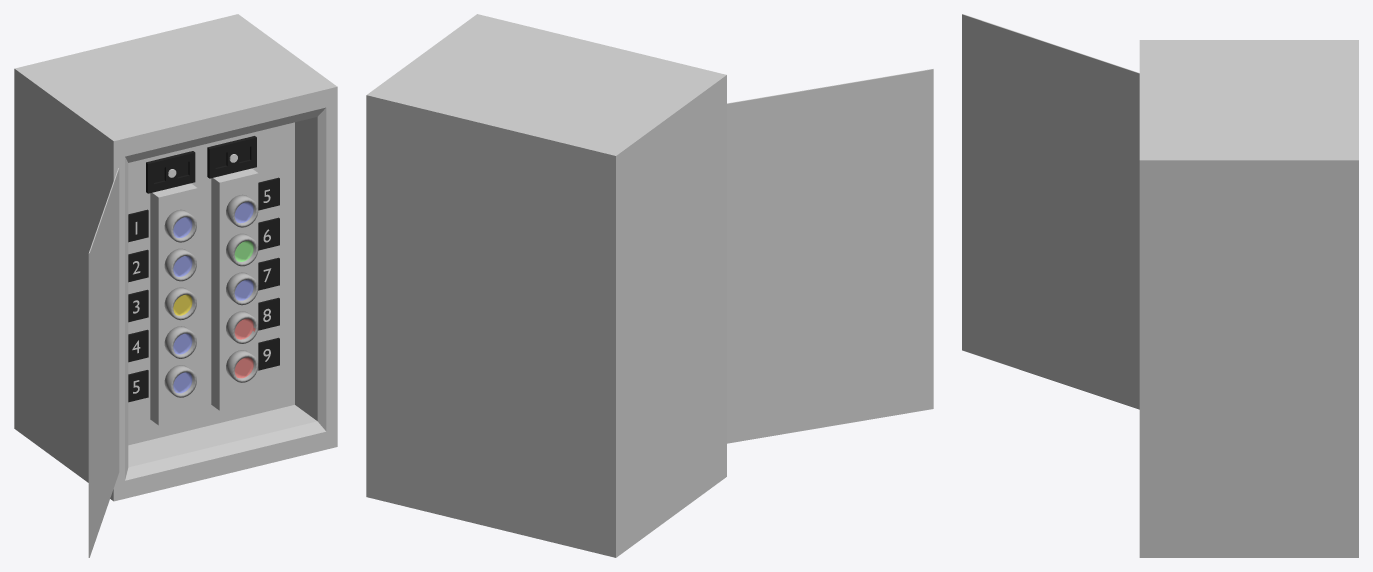
File: fusebox.fbx
The picture shows the model from 3 angles, left to right: view 1: azimuth 30°, elevation 25°; view 2: azimuth 150°, elevation 25°; view 3: azimuth 270°, elevation 25°; orthographic projection. The views are drawn at different scales.
Parts seen in each view (by area): view 1: Cube.004, Cube.006, Cube.005, Cylinder.002, Cube.008, Cube.007, Text; view 2: Cube.004, Cube.005; view 3: Cube.004, Cube.005.
Boxes of the visible parts, box(x1,y1,x2,y2) form: Cube.004: box(14, 14, 337, 501); Cube.006: box(150, 168, 258, 425); Cube.005: box(88, 168, 119, 557); Cylinder.002: box(164, 194, 258, 397); Cube.008: box(128, 177, 279, 402); Cube.007: box(146, 136, 256, 193); Text: box(132, 189, 271, 393); Cube.004: box(366, 14, 726, 557); Cube.005: box(727, 69, 933, 443); Cube.004: box(1139, 40, 1358, 557); Cube.005: box(962, 14, 1139, 409).
Bounding box in the file's own units: 82.08 × 85.9 × 77.68.
